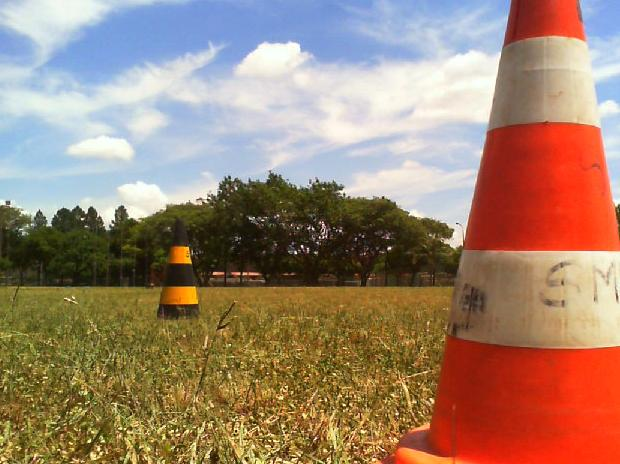0 cone: (366, 0, 620, 464), (155, 220, 204, 320)
